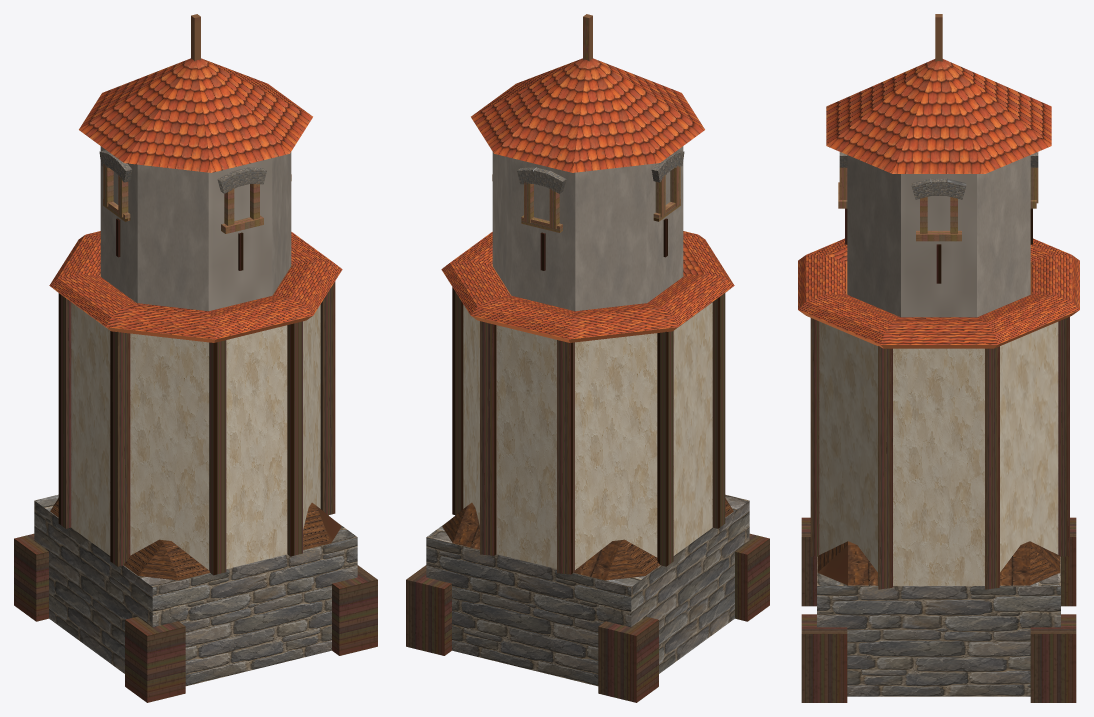
Rendered from Medieval_Watchtower.obj.
The picture shows the model from 3 angles, left to right: view 1: azimuth 30°, elevation 25°; view 2: azimuth 150°, elevation 25°; view 3: azimuth 270°, elevation 25°; orthographic projection. The views are drawn at different scales.
Visible parts, largest first — view 1: tube, mesh, cone, torus, beveled_cuboid; view 2: tube, mesh, cone, torus, beveled_cuboid; view 3: tube, mesh, cone, torus, beveled_cuboid.
Part boxes in pixels (bbox=[...]): tube: bbox=[71, 146, 320, 569]; mesh: bbox=[14, 14, 377, 702]; cone: bbox=[79, 58, 312, 172]; torus: bbox=[49, 231, 342, 342]; beveled_cuboid: bbox=[50, 498, 341, 580]; tube: bbox=[463, 146, 712, 569]; mesh: bbox=[406, 14, 769, 702]; cone: bbox=[471, 58, 704, 172]; torus: bbox=[441, 231, 734, 342]; beveled_cuboid: bbox=[442, 498, 733, 580]; tube: bbox=[819, 155, 1058, 585]; mesh: bbox=[801, 14, 1076, 702]; cone: bbox=[826, 59, 1051, 173]; torus: bbox=[798, 238, 1079, 348]; beveled_cuboid: bbox=[817, 541, 1060, 585].
Bounding box in the file's own units: 1.15 × 2.84 × 1.15.
Materials: 10 (9 with a texture image).
